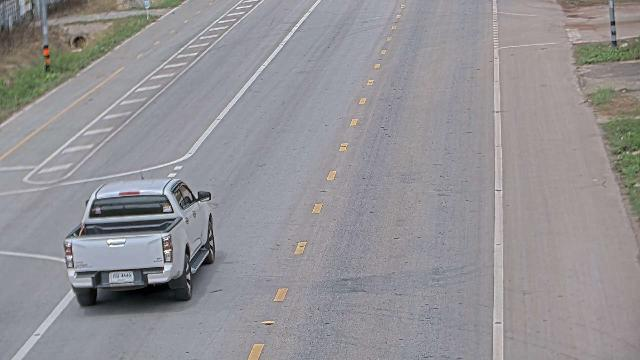pickup-truck: (62, 176, 216, 307)
